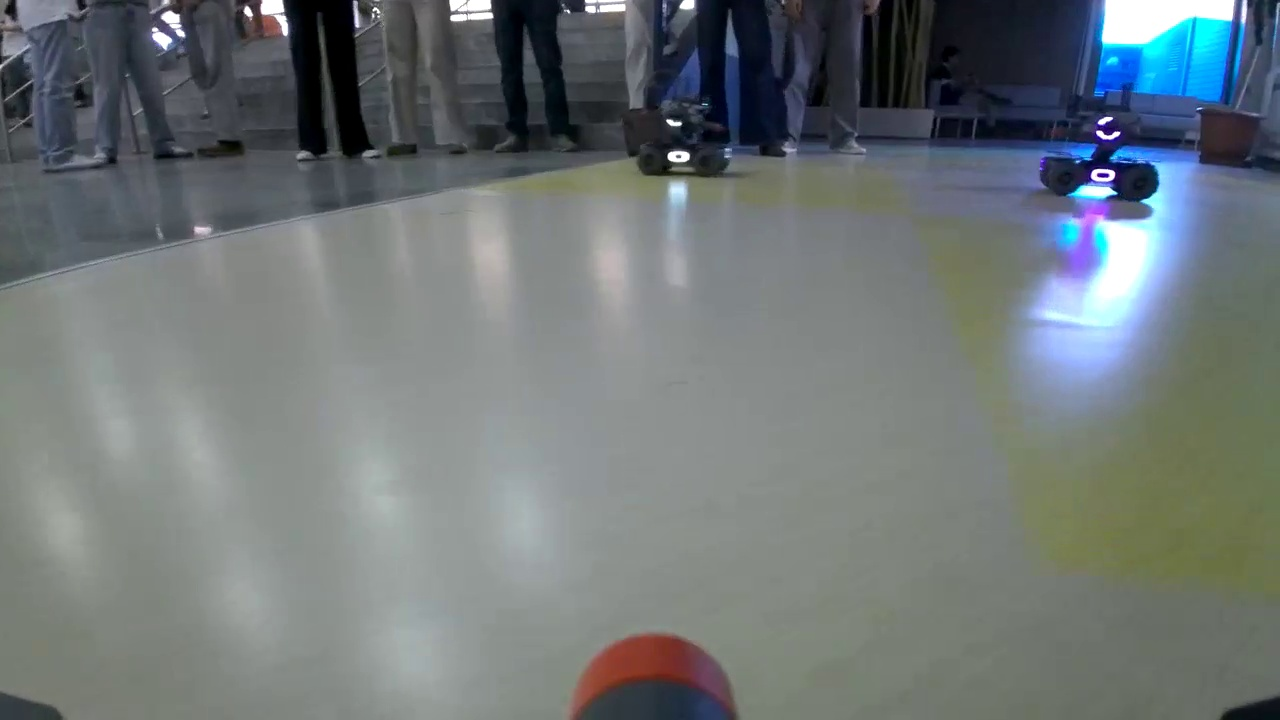robot: (1039, 91, 1159, 201), (637, 101, 727, 180)
